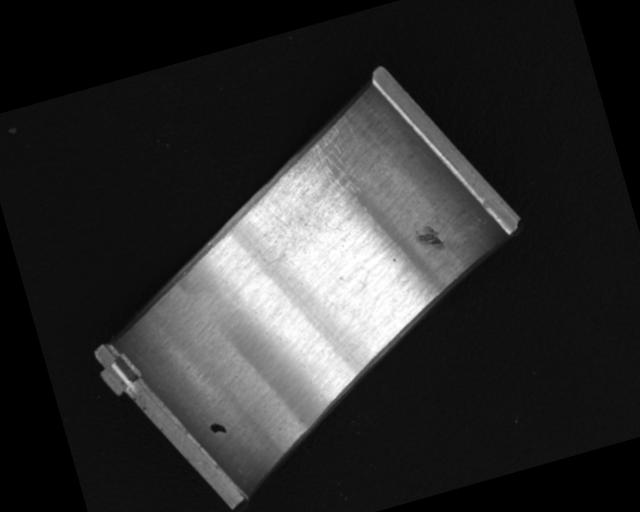blot: (207, 419, 228, 439)
bruise: (411, 221, 446, 254)
scratch: (241, 114, 381, 247)
